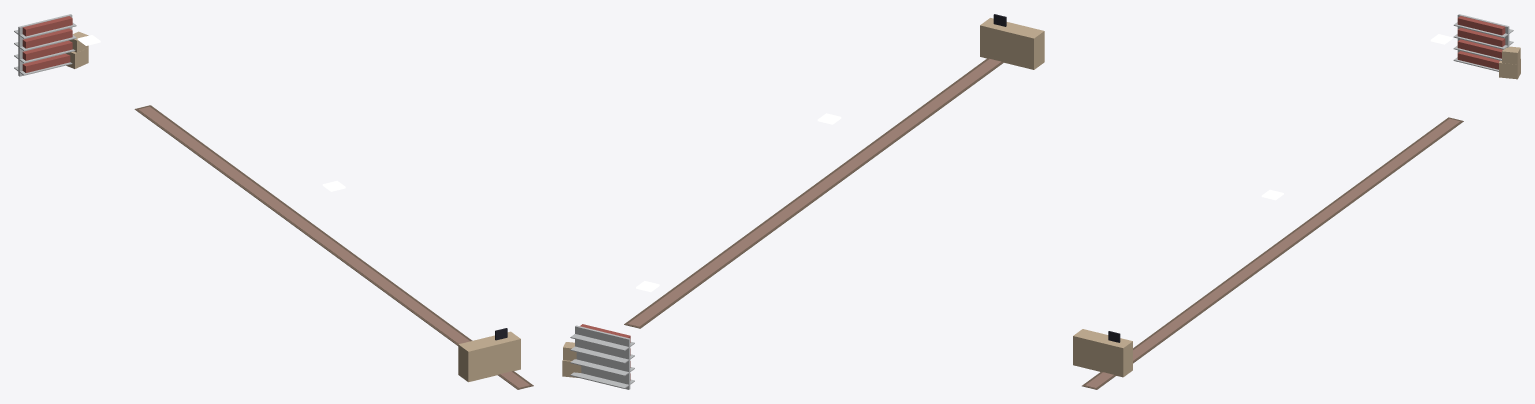
The model's file is fine-s0.glb.
3 renders of one model, left to right at view 1: azimuth 30°, elevation 25°; view 2: azimuth 150°, elevation 25°; view 3: azimuth 330°, elevation 25°, orthographic. The views are drawn at different scales.
Visible parts, largest first — view 1: soft-s0, shelving.000, shop-counter.000, cardboard-box.000; view 2: soft-s0, shelving.000, shop-counter.000, cardboard-box.000; view 3: soft-s0, shelving.000, shop-counter.000, cardboard-box.000.
Part boxes in pixels (left/top/right/bottom): soft-s0: left=134, top=105, right=533, bottom=389; shelving.000: left=14, top=14, right=76, bottom=76; shop-counter.000: left=458, top=328, right=520, bottom=382; cardboard-box.000: left=66, top=31, right=88, bottom=68; soft-s0: left=624, top=58, right=1003, bottom=328; shelving.000: left=570, top=324, right=634, bottom=389; shop-counter.000: left=980, top=14, right=1044, bottom=69; cardboard-box.000: left=562, top=342, right=581, bottom=377; soft-s0: left=1082, top=117, right=1463, bottom=389; shelving.000: left=1453, top=14, right=1513, bottom=71; shop-counter.000: left=1073, top=329, right=1132, bottom=377; cardboard-box.000: left=1499, top=46, right=1520, bottom=79.
Bounding box in the file's own units: 2.6 × 2.03 × 26.76.
